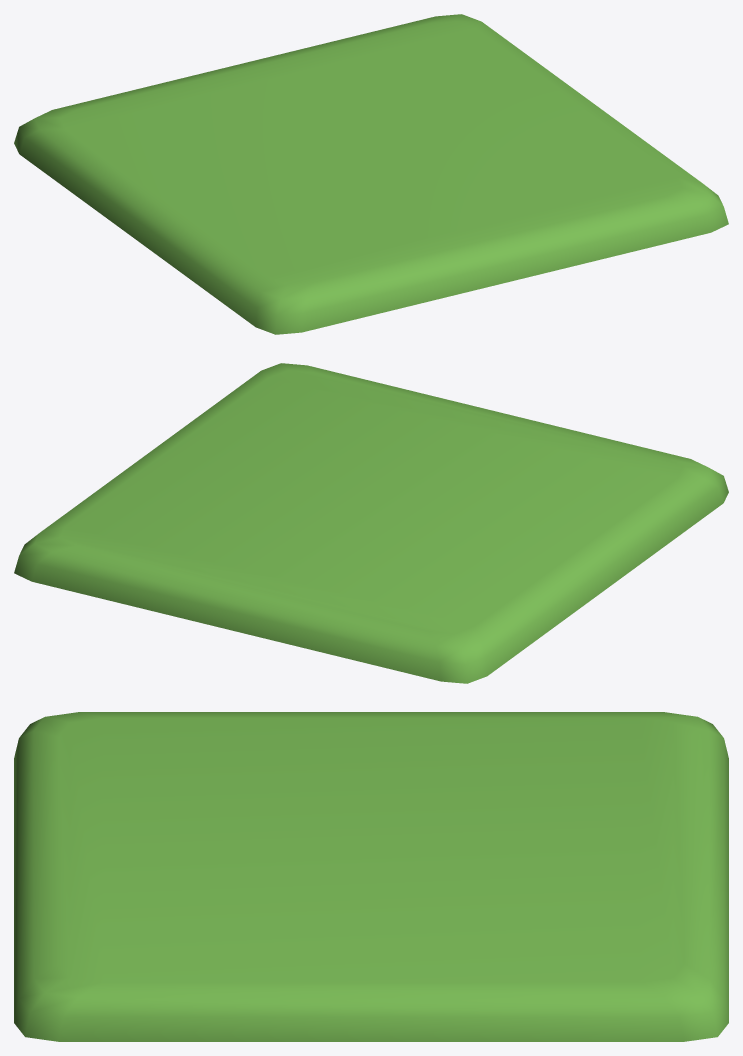
File: GravityFloor_02.FBX
3 views of the same model, one above another, from view 1: azimuth 30°, elevation 25°; view 2: azimuth 150°, elevation 25°; view 3: azimuth 270°, elevation 25° (orthographic). The views are drawn at different scales.
Parts seen in each view (by area): view 1: GravityFloor_02; view 2: GravityFloor_02; view 3: GravityFloor_02.
Boxes of the visible parts, bbox=[...] form: GravityFloor_02: bbox=[14, 14, 728, 334]; GravityFloor_02: bbox=[14, 363, 728, 683]; GravityFloor_02: bbox=[14, 712, 728, 1041].
Bounding box in the file's own units: 1.6 × 0.1 × 1.6.
